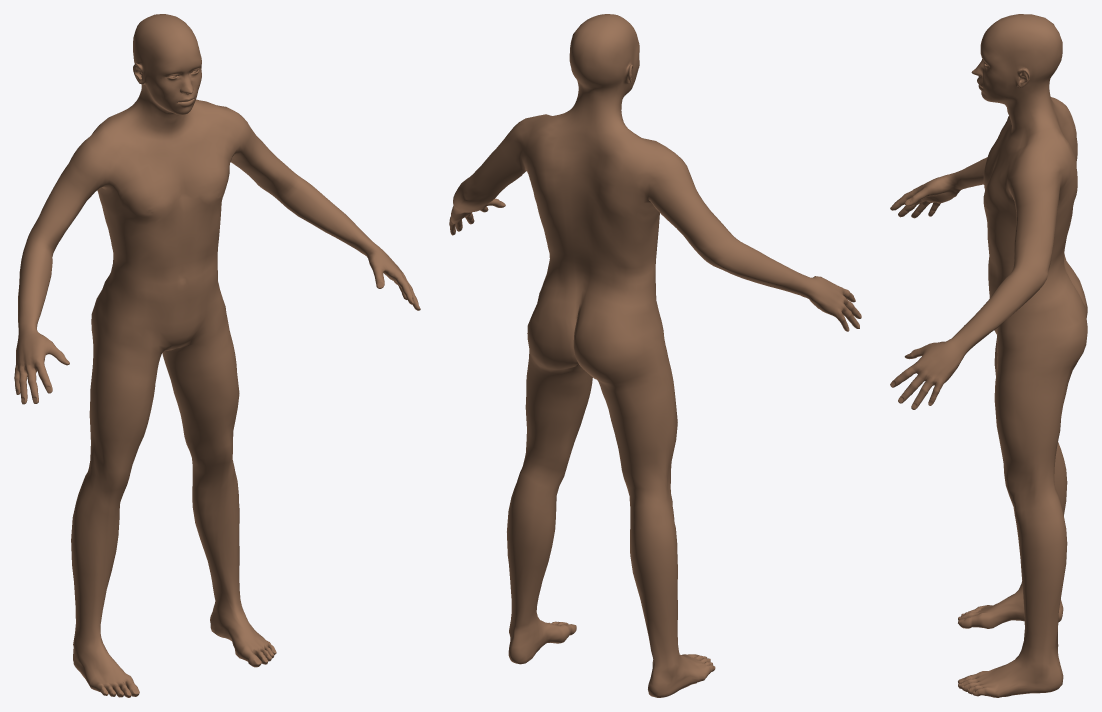
3 views of the same model, side by side, from view 1: azimuth 30°, elevation 25°; view 2: azimuth 150°, elevation 25°; view 3: azimuth 270°, elevation 25° (orthographic).
Visible parts, largest first — view 1: base.obj; view 2: base.obj; view 3: base.obj.
Part boxes in pixels (x1,y1,x2,y2): base.obj: (14,14,420,697); base.obj: (449,14,861,697); base.obj: (890,14,1087,697).
Bounding box in the file's own units: 11.65 × 18 × 5.04.
